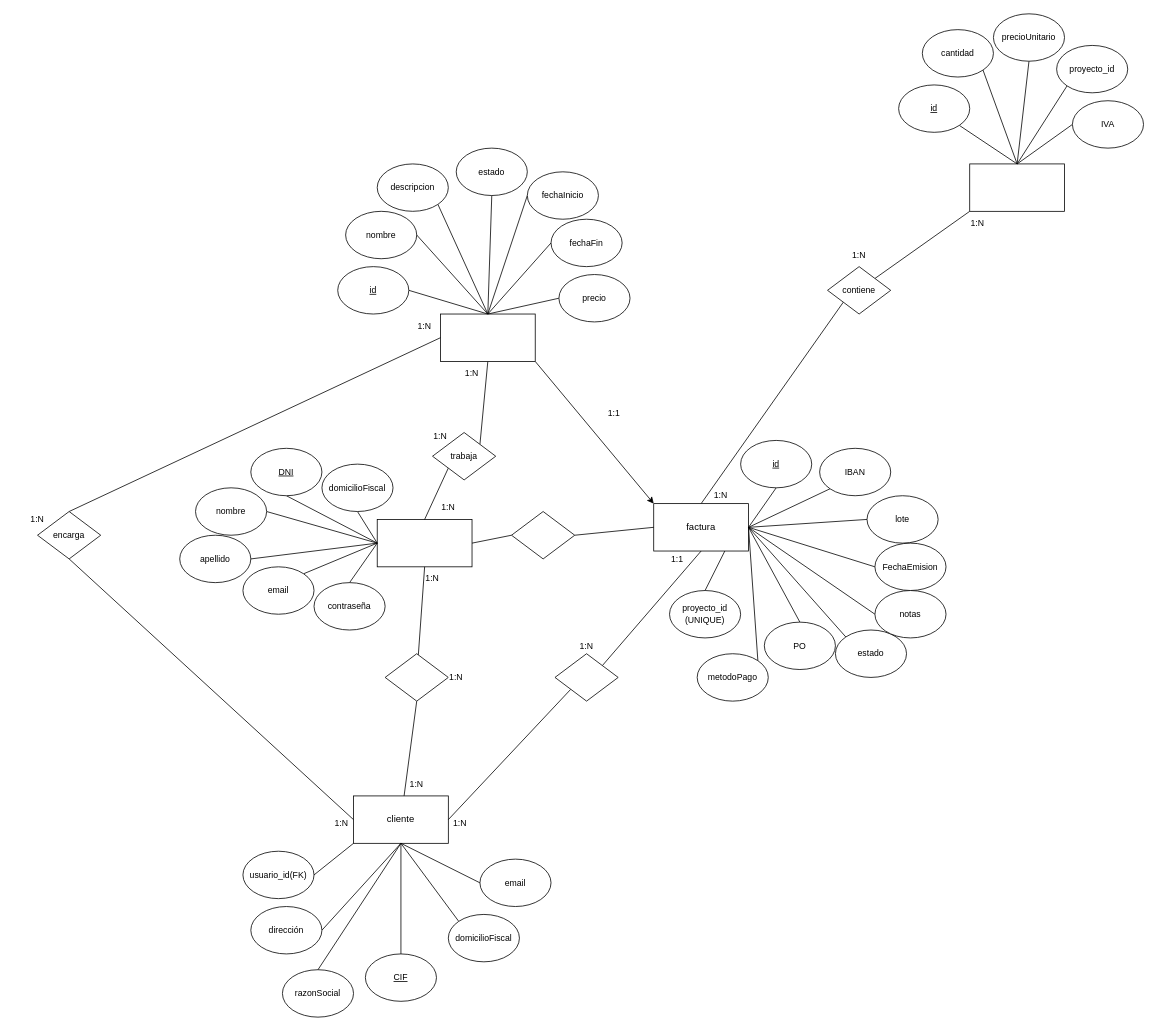
Image size: 1157x1031. Some labels were removed from this diagram. Each missing label, with the centre of its shape:
"emite" belongs at point 543,535.
"gestiona" belongs at point 416,677.
"lineaFactura" belongs at point 1017,187.
"pertenece" belongs at point 586,677.
"proyecto" belongs at point 487,337.
"usuario" belongs at point 424,543.
